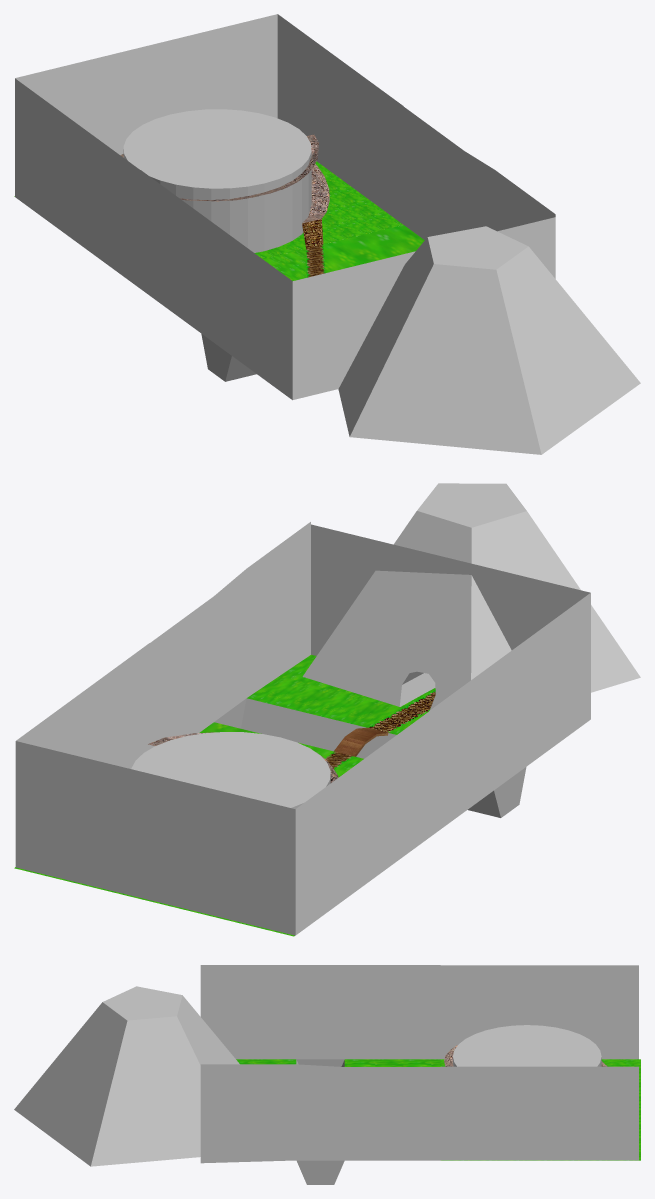
The model's file is mapa-mario.dae.
3 renders of one model, top to bottom at view 1: azimuth 30°, elevation 25°; view 2: azimuth 150°, elevation 25°; view 3: azimuth 270°, elevation 25°, orthographic. The views are drawn at different scales.
Visible parts, largest first — view 1: Plano, Cilindro; view 2: Plano, Cilindro; view 3: Plano, Cilindro.
Boxes of the visible parts, box(x1,y1,x2,y2) form: Plano: box(14, 14, 555, 400); Cilindro: box(338, 226, 640, 454); Plano: box(14, 522, 590, 936); Cilindro: box(302, 483, 640, 709); Plano: box(200, 965, 640, 1184); Cilindro: box(14, 986, 239, 1166).
Size of what is drawn, in the model's own units: 30.45 by 75.11 by 17.99.
